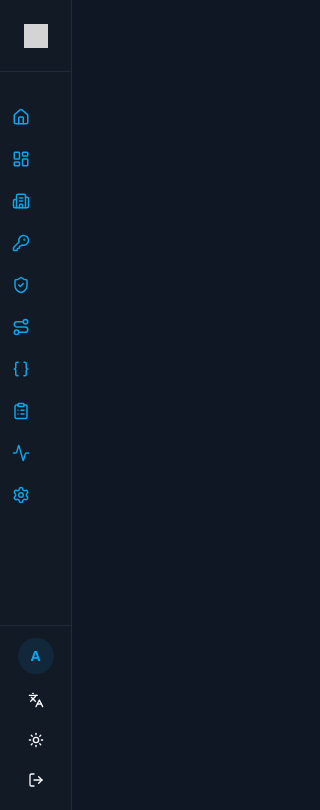
Test case: Sidebar › expands to show labels when the pointer enters the Sidebar
Hover over the element showing "A".
mouse_move(36, 405)  # box [0,0,72,809]
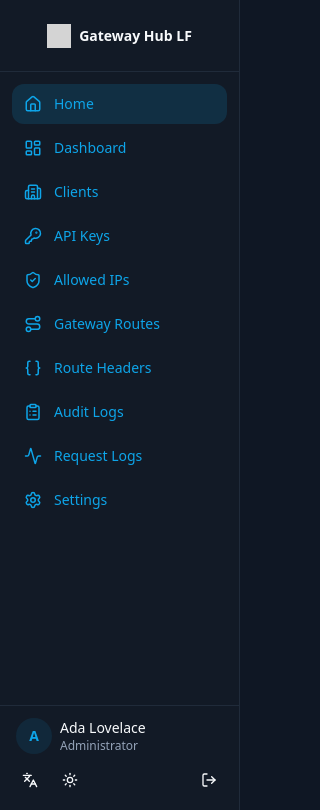
Expected: the text "Gateway Hub LF" is shown, [79,26,192,46]
Expected: the link "Settings" is shown, [24,490,107,509]
